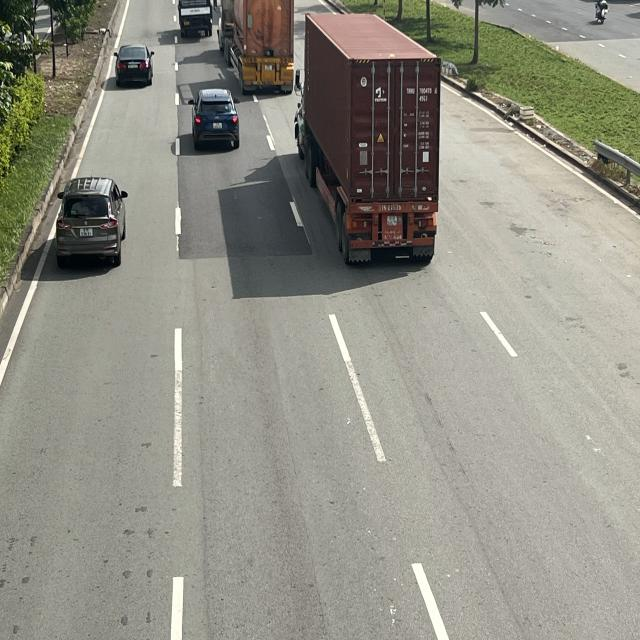car: (54, 174, 128, 266), (188, 89, 240, 150), (113, 45, 156, 86)
container: (294, 12, 442, 267), (213, 0, 297, 94)
truck: (177, 1, 214, 36)
